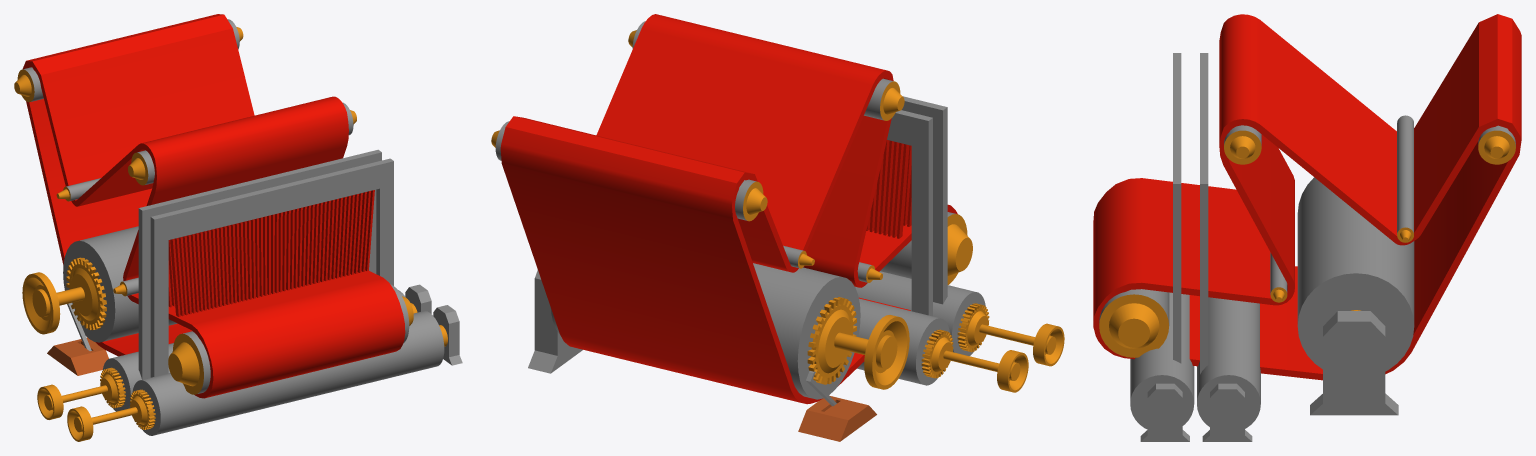
File: alexc_industrial_loom.fbx
3 views of the same model, side by side, from view 1: azimuth 30°, elevation 25°; view 2: azimuth 150°, elevation 25°; view 3: azimuth 270°, elevation 25° (orthographic). The views are drawn at different scales.
Visible parts, largest first — view 1: industrial_loom; view 2: industrial_loom; view 3: industrial_loom.
Part boxes in pixels (left/top/right/bottom): industrial_loom: left=14, top=14, right=462, bottom=441; industrial_loom: left=491, top=14, right=1064, bottom=441; industrial_loom: left=1093, top=14, right=1521, bottom=441.
Size of the model in its own units: 1404 by 1234 by 903.
